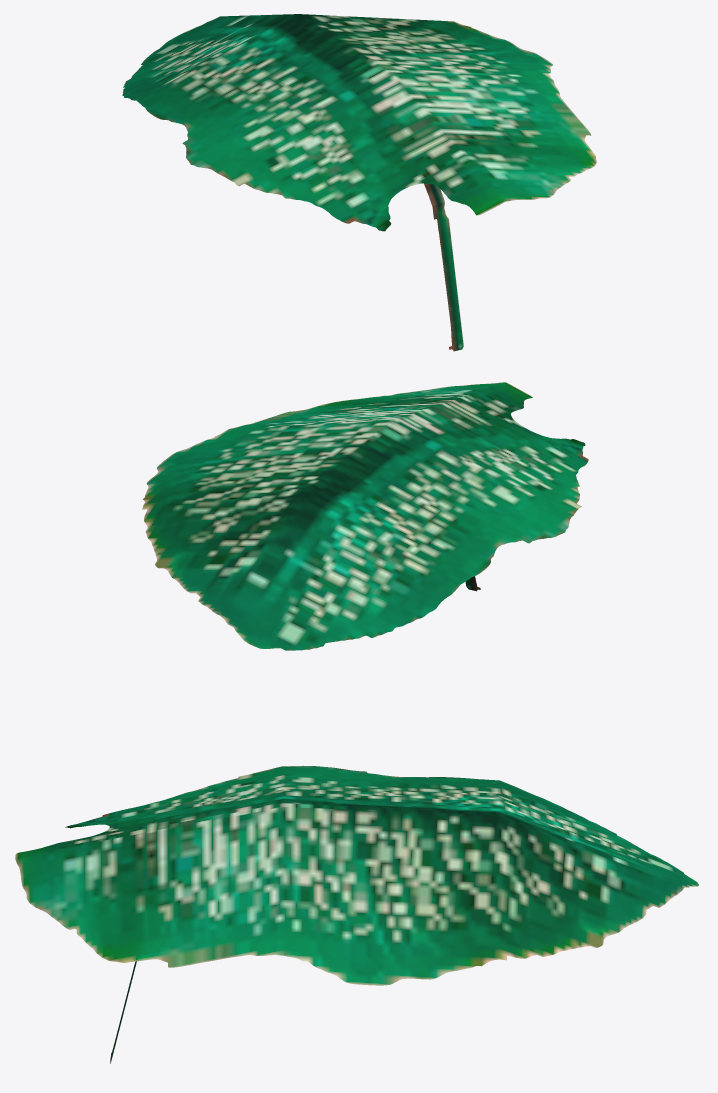
File: Plant One-Sided.fbx
3 views of the same model, one above another, from view 1: azimuth 30°, elevation 25°; view 2: azimuth 150°, elevation 25°; view 3: azimuth 270°, elevation 25° (orthographic). The views are drawn at different scales.
Visible parts, largest first — view 1: Plant One-Sided; view 2: Plant One-Sided; view 3: Plant One-Sided.
Boxes of the visible parts, box(x1,y1,x2,y2) form: Plant One-Sided: box(122, 14, 596, 351); Plant One-Sided: box(142, 382, 588, 650); Plant One-Sided: box(15, 765, 698, 1063).
Size of the model in its own units: 2.75 by 3.56 by 1.47.
Materials: 1 (1 with a texture image).
